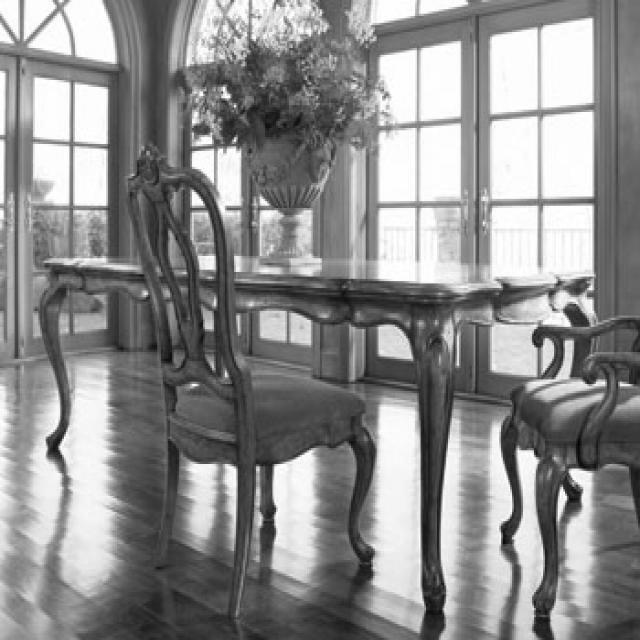chair: (125, 136, 378, 624), (498, 208, 638, 638)
